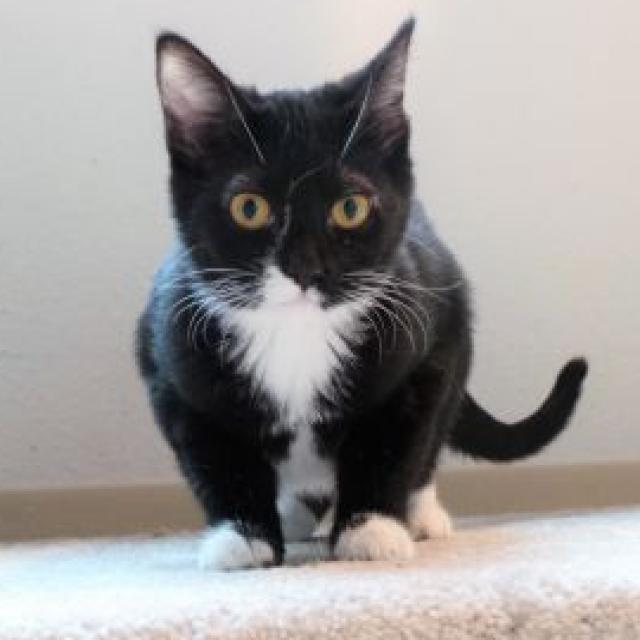Tuxedo: (131, 10, 590, 579)
